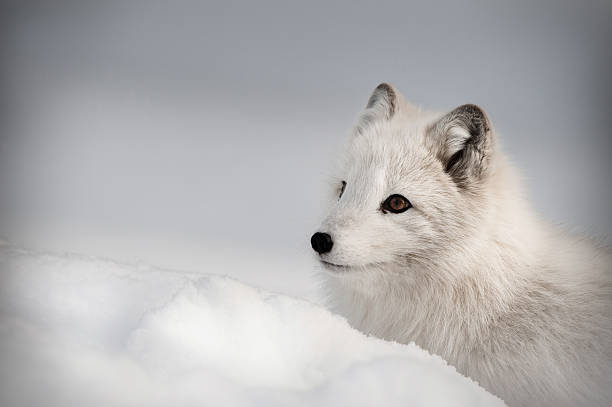arcticfox: (295, 113, 461, 287)
